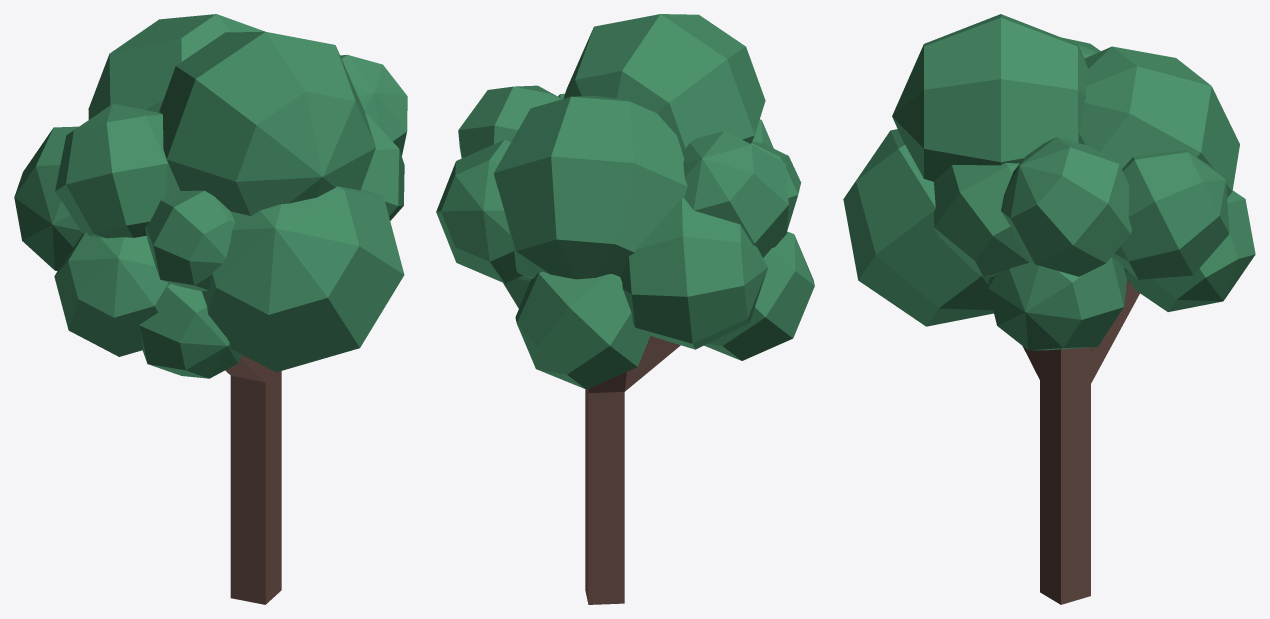
The model's file is tree2.fbx.
3 views of the same model, side by side, from view 1: azimuth 30°, elevation 25°; view 2: azimuth 150°, elevation 25°; view 3: azimuth 270°, elevation 25° (orthographic). The views are drawn at different scales.
Parts seen in each view (by area): view 1: polySurface4; view 2: polySurface4; view 3: polySurface4.
Part boxes in pixels (x1,y1,x2,y2): polySurface4: [14, 14, 407, 604]; polySurface4: [436, 14, 814, 604]; polySurface4: [843, 14, 1255, 604].
Bounding box in the file's own units: 93.46 × 152 × 101.
